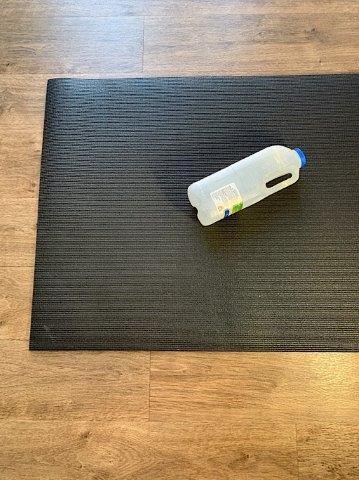botolplastik: (188, 146, 306, 225)
